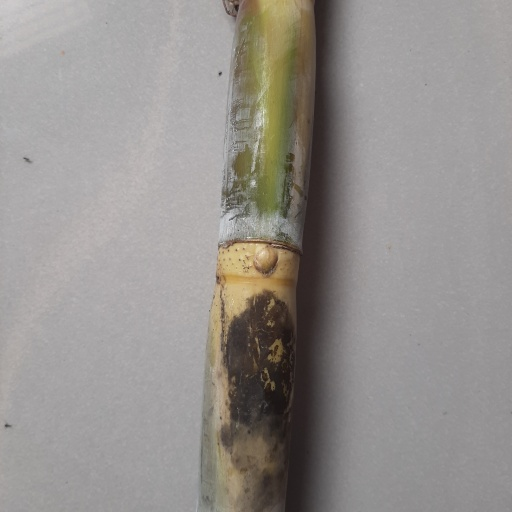Bud: (253, 244, 279, 277)
